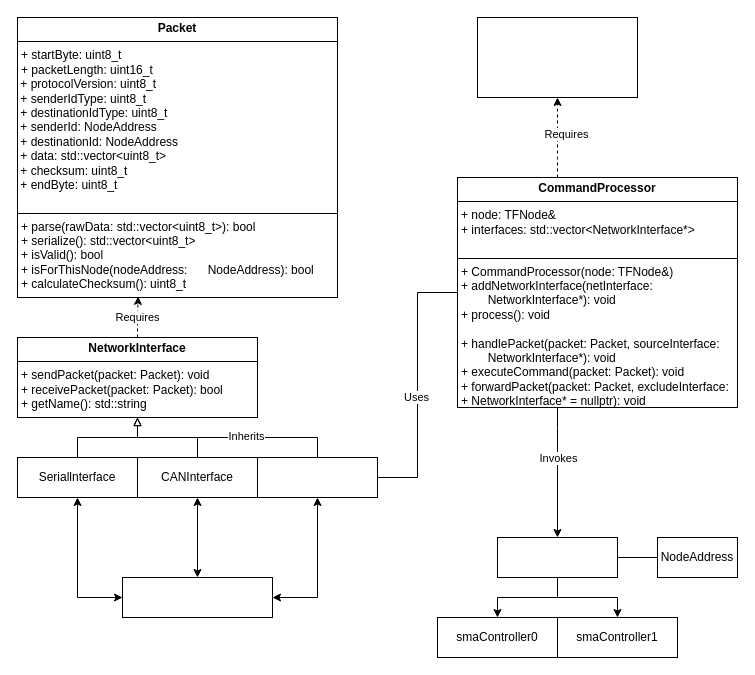
The diagram is 755 pixels wide and 675 high, and some of its shapes have lost their labels. Here are the shapes that lost their labels. From the top down, the centre of each, then its label:
(x=557, y=57): tfnode::* Enums and Messages from .proto file
(x=317, y=477): SPIInterface
(x=557, y=557): TFNode
(x=197, y=597): (External Networks)
